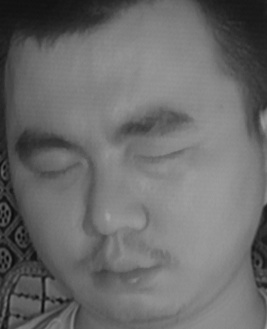blink: (134, 139, 193, 175), (32, 155, 86, 189)
mouth: (76, 242, 164, 299)
